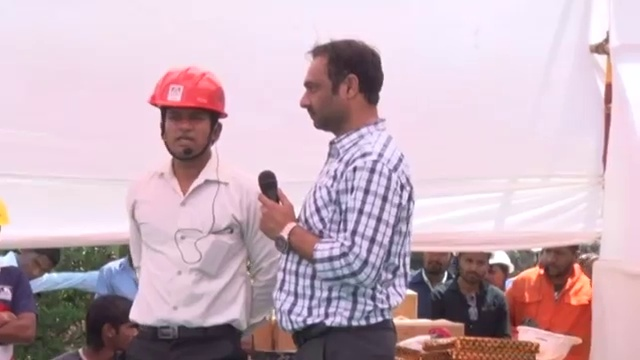helmet: (142, 68, 231, 122), (514, 326, 581, 358), (490, 254, 516, 276)
helmet_off: (302, 39, 385, 130), (76, 294, 139, 357), (538, 243, 583, 287), (17, 249, 63, 280), (456, 250, 492, 288), (421, 248, 453, 283)
helmet_on: (144, 70, 234, 179), (490, 252, 517, 295), (0, 196, 13, 268)
person: (256, 36, 415, 355), (127, 65, 271, 360), (506, 242, 591, 360), (0, 197, 45, 359), (429, 250, 509, 336), (406, 246, 456, 320)
